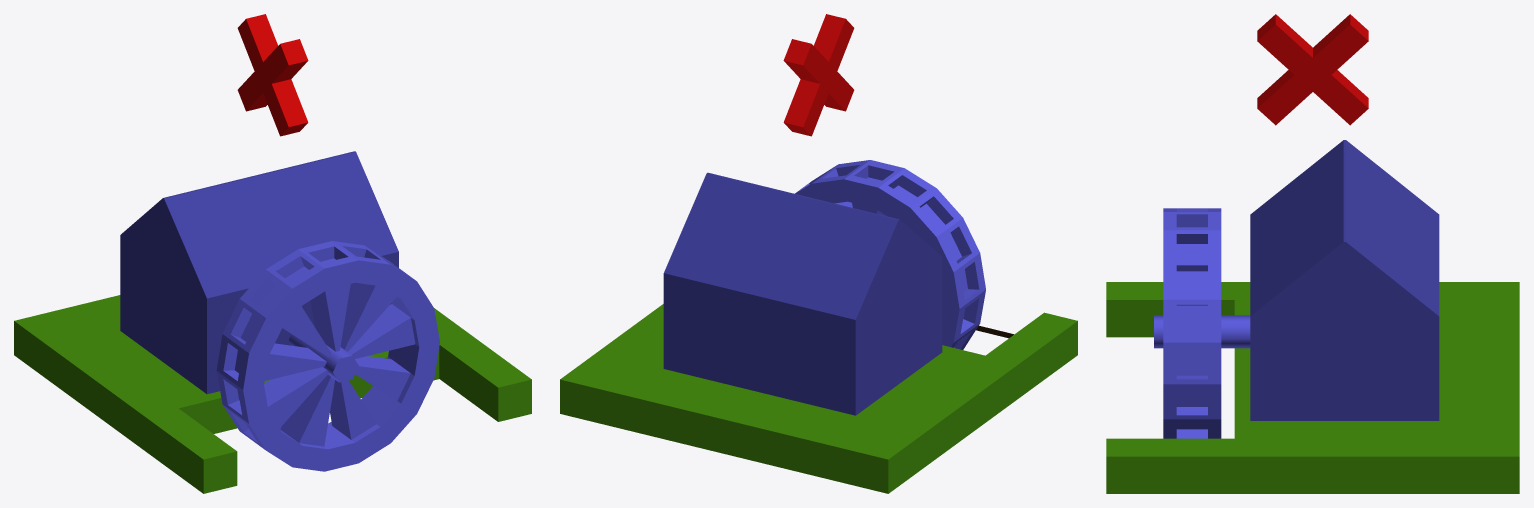
Rendered from Grinder999.obj.
3 renders of one model, left to right at view 1: azimuth 30°, elevation 25°; view 2: azimuth 150°, elevation 25°; view 3: azimuth 270°, elevation 25°, orthographic. The views are drawn at different scales.
Parts seen in each view (by area): view 1: Mill004, Box924, Tilebase136, Box925, Box926, Cylinder141; view 2: Box924, Tilebase136, Mill004, Box926, Box925; view 3: Box924, Tilebase136, Mill004, Box925, Box926, Cylinder141.
Boxes of the visible parts, bbox=[...] form: Mill004: bbox=[216, 241, 439, 471]; Box924: bbox=[120, 151, 398, 394]; Tilebase136: bbox=[14, 295, 531, 493]; Box925: bbox=[237, 14, 308, 136]; Box926: bbox=[237, 39, 308, 111]; Cylinder141: bbox=[289, 334, 358, 382]; Box924: bbox=[663, 172, 942, 415]; Tilebase136: bbox=[560, 304, 1077, 493]; Mill004: bbox=[795, 160, 985, 349]; Box926: bbox=[783, 14, 854, 136]; Box925: bbox=[783, 39, 854, 111]; Box924: bbox=[1250, 140, 1439, 420]; Tilebase136: bbox=[1106, 282, 1519, 493]; Mill004: bbox=[1163, 208, 1221, 438]; Box925: bbox=[1257, 14, 1368, 125]; Box926: bbox=[1257, 14, 1368, 125]; Cylinder141: bbox=[1154, 315, 1250, 348].
Bounding box in the file's own units: 10 × 11.3 × 10.
